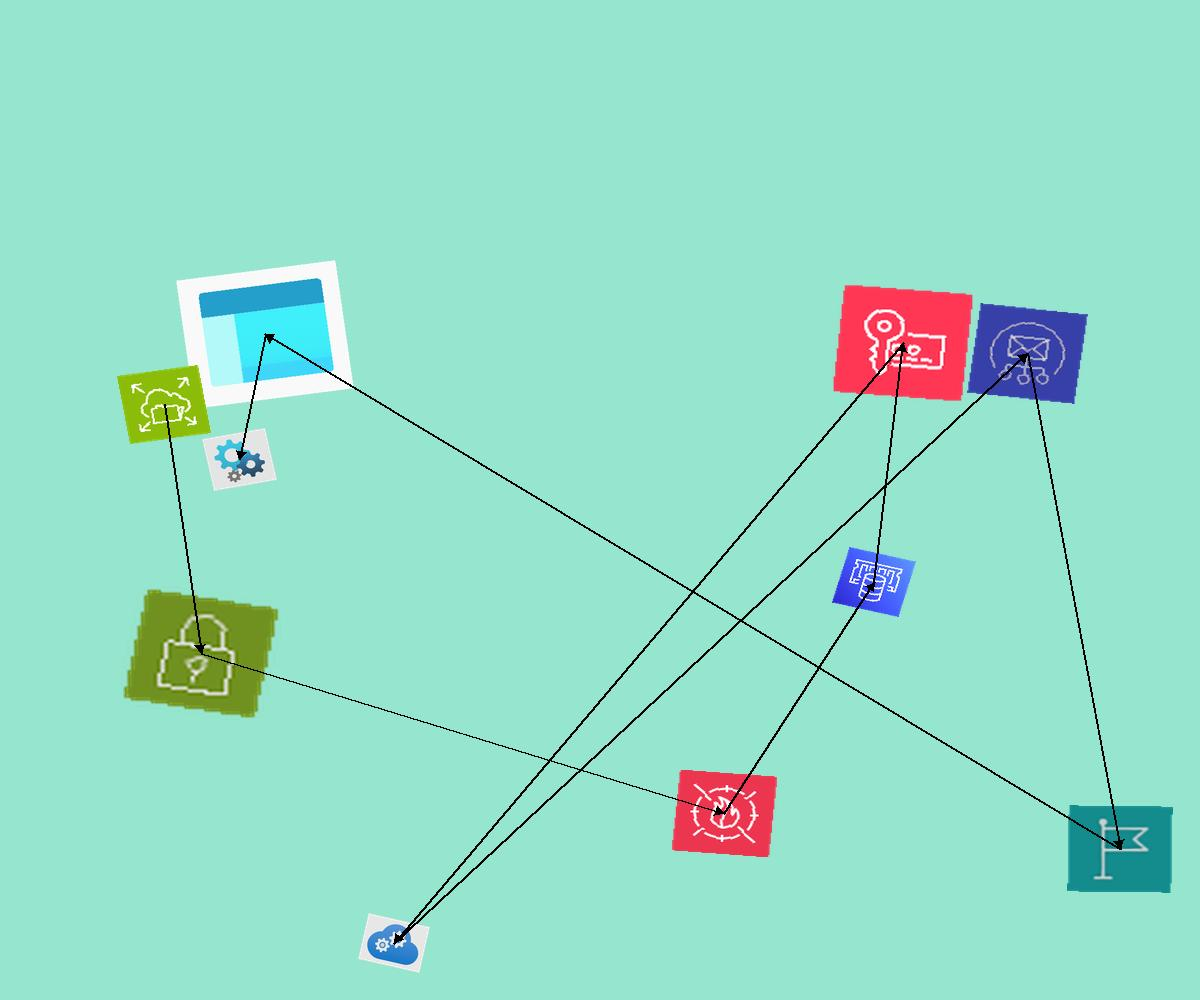AWS-EFS: (117, 365, 211, 444)
AWS-ElastiCache: (832, 547, 916, 617)
AWS-Key-Management-Service: (832, 284, 974, 402)
AWS-Public-subnet: (121, 587, 281, 720)
AWS-Region: (1067, 805, 1173, 893)
AWS-Simple-Email-Service: (967, 303, 1088, 404)
AWS-WAF: (671, 769, 778, 858)
Azure_api: (202, 428, 277, 491)
Azure_cloud_services: (358, 913, 430, 973)
Azure_management-portal: (176, 260, 354, 409)
